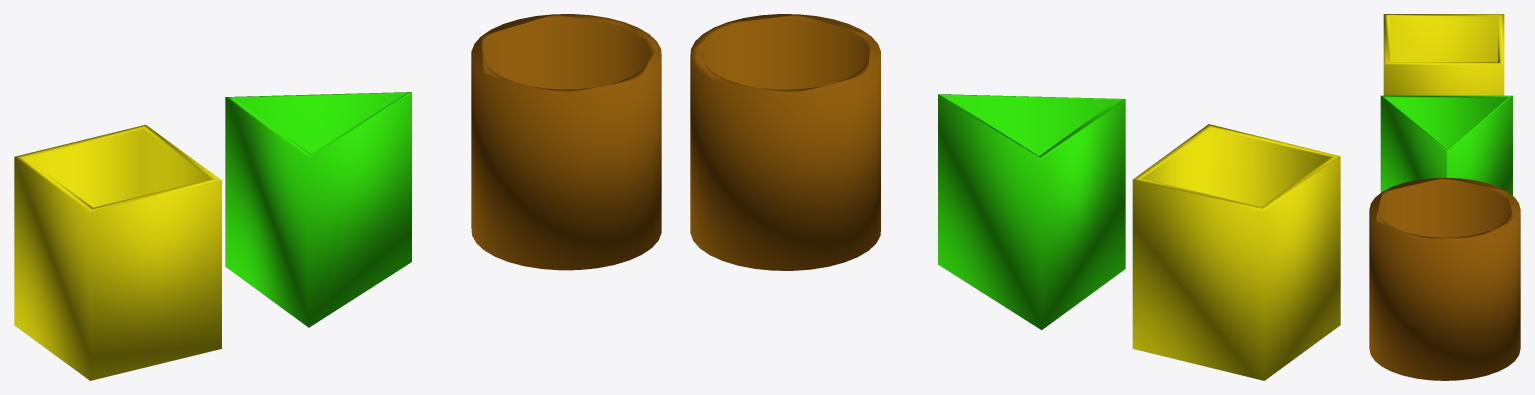
3 renders of one model, left to right at view 1: azimuth 30°, elevation 25°; view 2: azimuth 150°, elevation 25°; view 3: azimuth 270°, elevation 25°, orthographic. The views are drawn at different scales.
Visible parts, largest first — view 1: Cylinder, Cube, Cube.001; view 2: Cylinder, Cube, Cube.001; view 3: Cylinder, Cube.001, Cube.
Boxes of the visible parts, <box> form: Cylinder: <box>471,14,661,270</box>; Cube: <box>14,124,221,380</box>; Cube.001: <box>225,92,411,327</box>; Cylinder: <box>690,14,880,270</box>; Cube: <box>1132,124,1340,380</box>; Cube.001: <box>938,94,1125,330</box>; Cylinder: <box>1369,177,1520,380</box>; Cube.001: <box>1380,95,1512,195</box>; Cube: <box>1383,14,1504,95</box>.
Bounding box in the file's own units: 2083 × 586 × 576.
